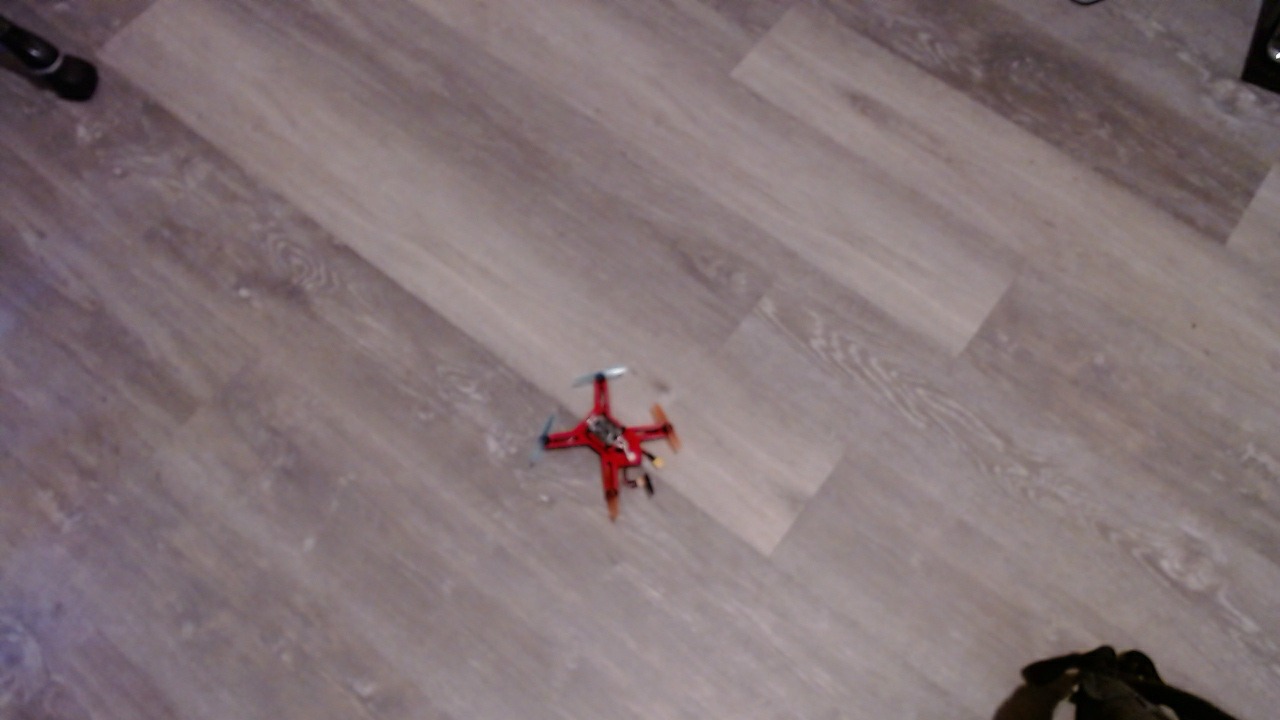crazyflie: (542, 375, 692, 516)
